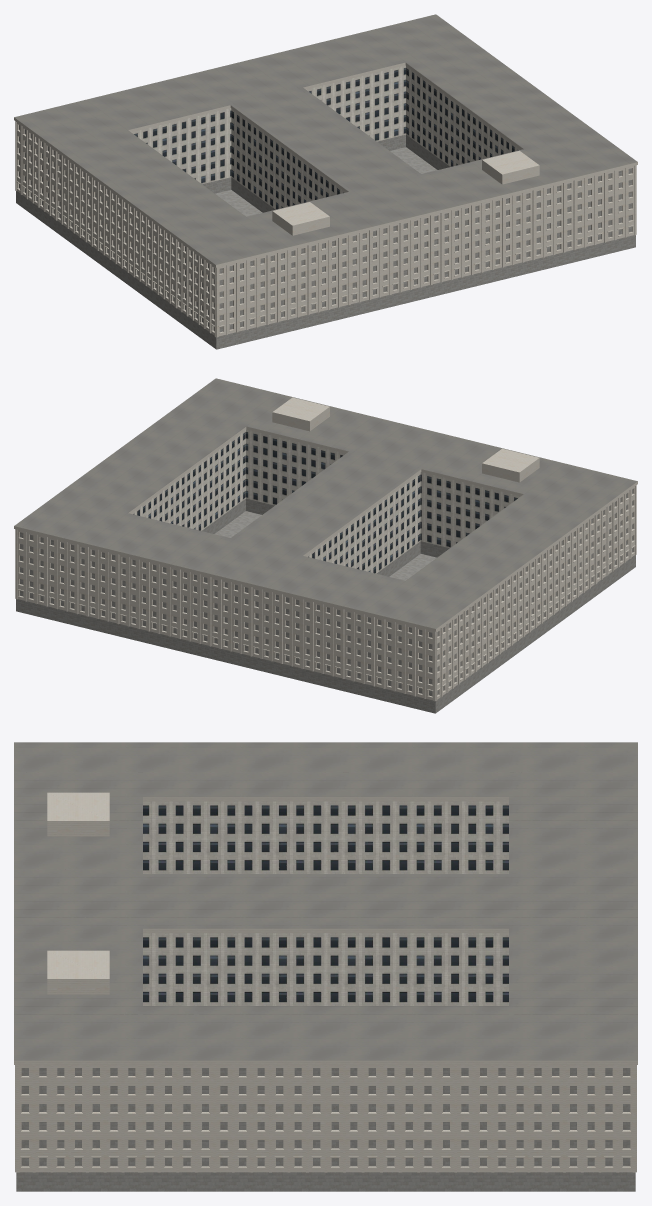
Rendered from loc_madison.glb.
3 renders of one model, top to bottom at view 1: azimuth 30°, elevation 25°; view 2: azimuth 150°, elevation 25°; view 3: azimuth 270°, elevation 25°, orthographic. The views are drawn at different scales.
Visible parts, largest first — view 1: loc_madison; view 2: loc_madison; view 3: loc_madison.
Part boxes in pixels (left/top/right/bottom): loc_madison: left=14, top=14, right=637, bottom=349; loc_madison: left=14, top=378, right=637, bottom=713; loc_madison: left=14, top=742, right=637, bottom=1191.
Bounding box in the file's own units: 158 × 34.09 × 131.
4 materials, 4 textured.
